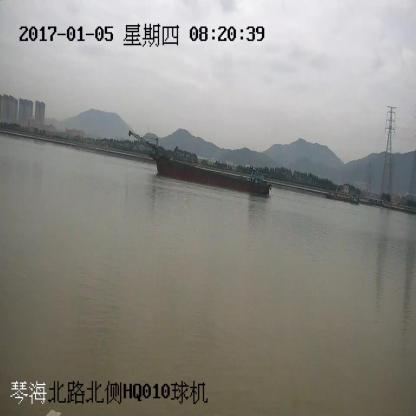Bulk Carrier: (129, 132, 272, 195)
